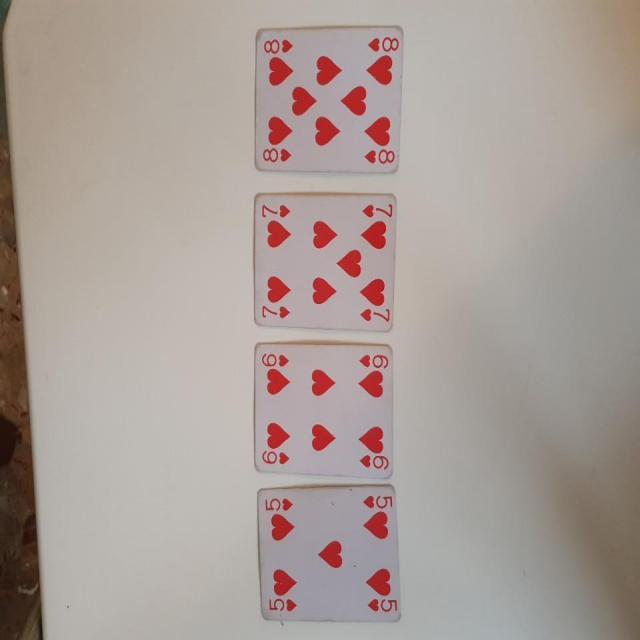5 of hearts: (254, 476, 406, 626)
6 of hearts: (247, 338, 404, 486)
7 of hearts: (248, 185, 398, 334)
8 of hearts: (246, 23, 414, 180)
